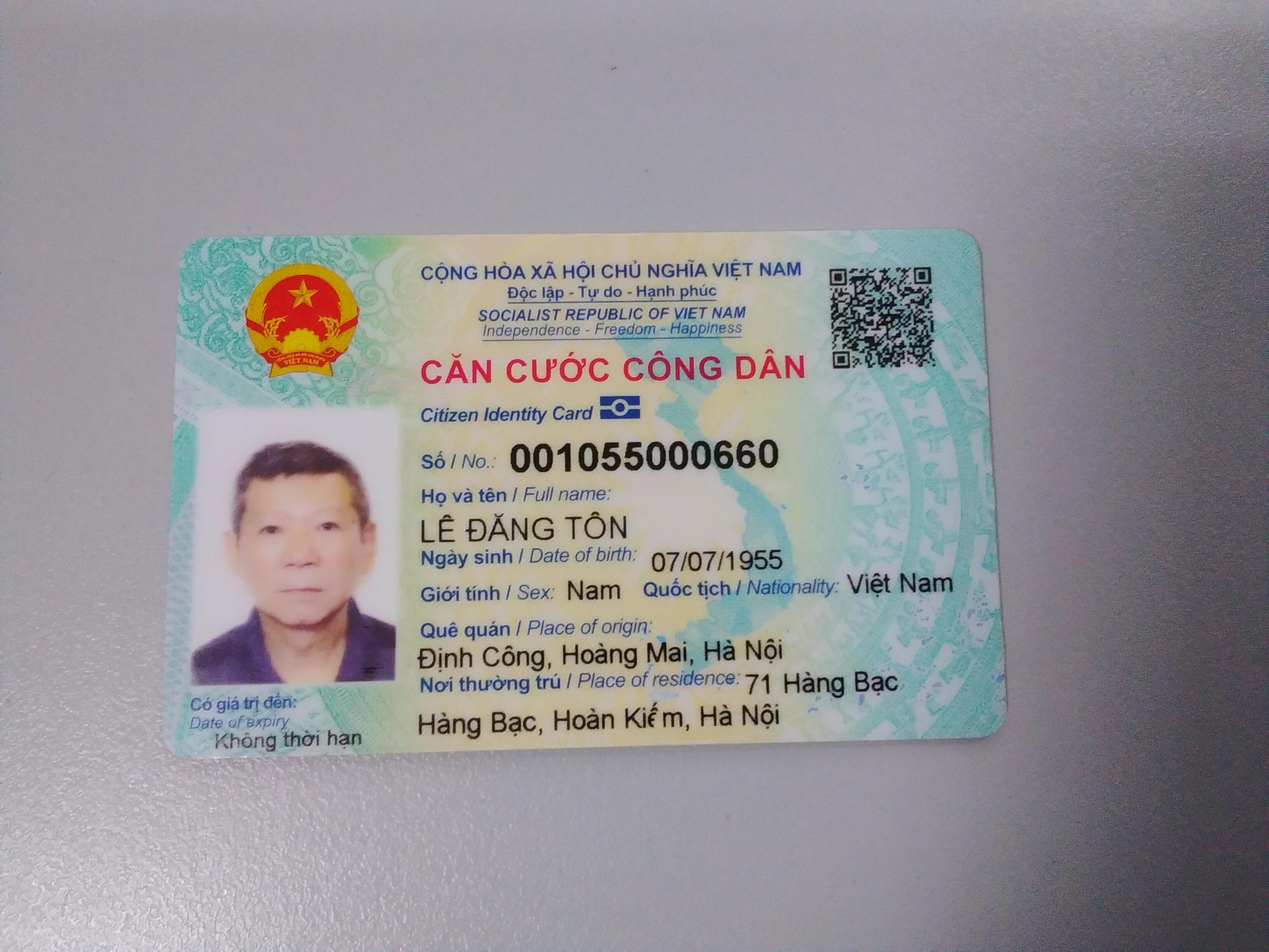ID: (506, 433, 786, 476)
birth: (643, 544, 797, 575)
name: (406, 509, 642, 548)
place: (414, 634, 792, 675)
residence: (407, 697, 793, 746), (745, 666, 904, 707)
